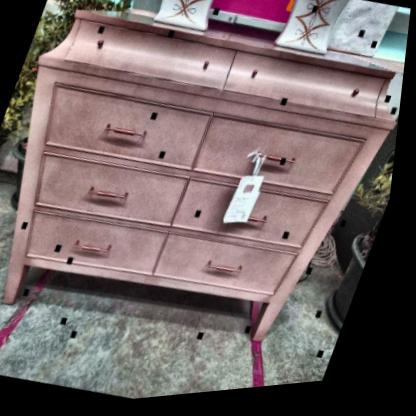Sideboard: (9, 12, 400, 350)
